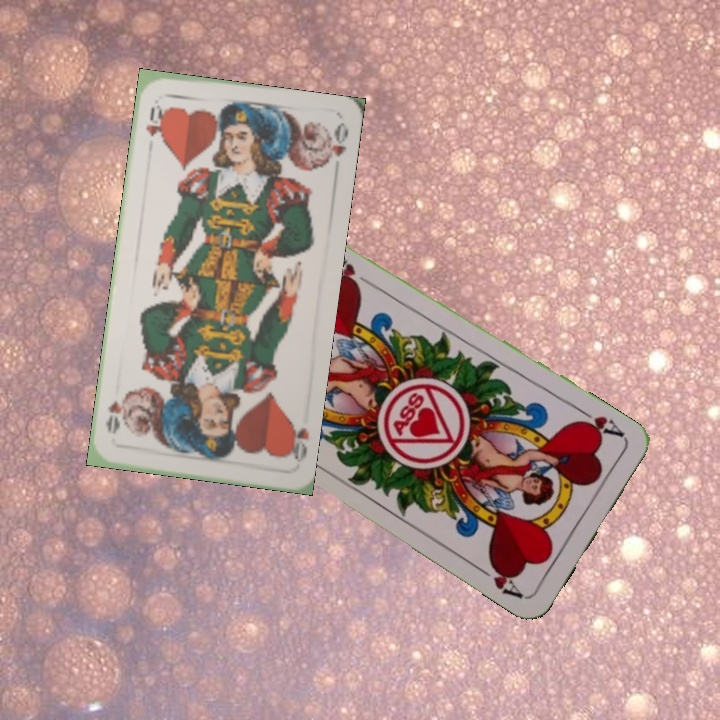HA: (571, 405, 628, 442)
HO: (282, 416, 312, 465), (141, 101, 168, 140)
